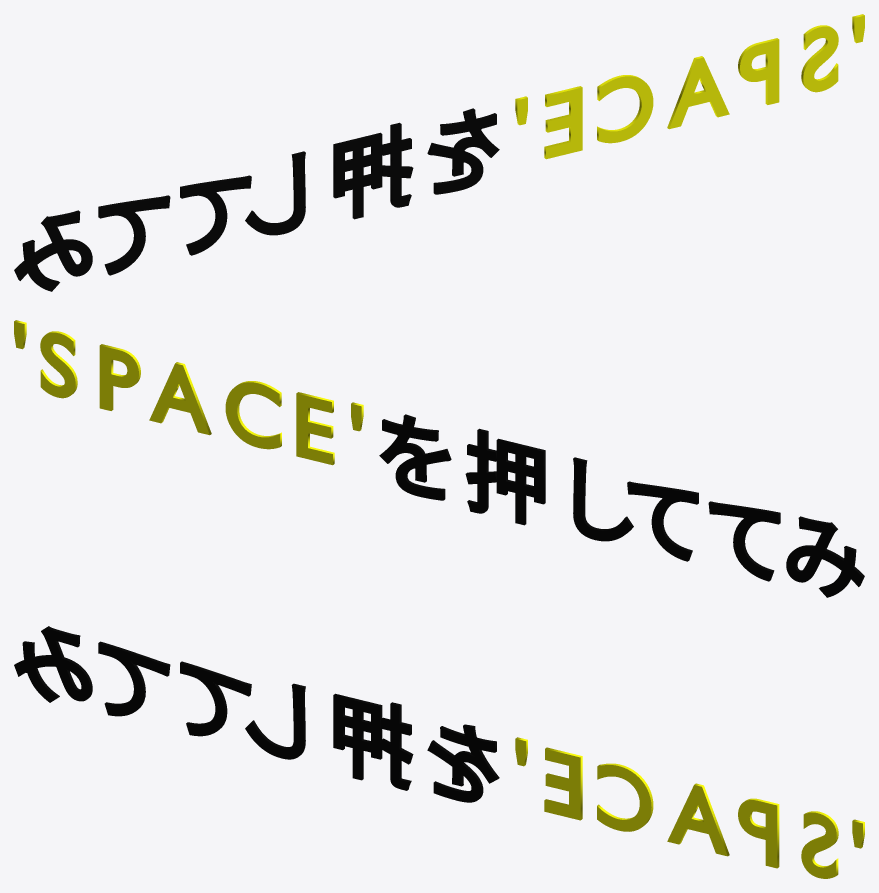
The model's file is stage3text2.obj.
3 renders of one model, top to bottom at view 1: azimuth 30°, elevation 25°; view 2: azimuth 150°, elevation 25°; view 3: azimuth 330°, elevation 25°, orthographic.
Visible parts, largest first — view 1: Text.018, Text.016, Text.020, Text.013, Text.011, Text.021, Text.022, Text.012, Text.010, Text.009, Text.019; view 2: Text.018, Text.016, Text.020, Text.013, Text.011, Text.021, Text.022, Text.012, Text.010, Text.009, Text.019; view 3: Text.018, Text.016, Text.020, Text.013, Text.021, Text.011, Text.022, Text.012, Text.010, Text.019, Text.009.
Boxes of the visible parts, box(x1,y1,x2,y2) form: Text.018: box(333, 122, 413, 219); Text.016: box(427, 108, 499, 194); Text.020: box(14, 210, 92, 291); Text.013: box(544, 86, 582, 159); Text.011: box(667, 56, 729, 129); Text.021: box(98, 195, 170, 275); Text.022: box(180, 175, 251, 255); Text.012: box(597, 75, 653, 143); Text.010: box(738, 38, 779, 104); Text.009: box(801, 25, 838, 92); Text.019: box(245, 151, 305, 235); Text.018: box(465, 428, 545, 525); Text.016: box(379, 414, 451, 500); Text.020: box(786, 516, 864, 597); Text.013: box(296, 392, 334, 465); Text.011: box(149, 362, 211, 435); Text.021: box(708, 501, 780, 581); Text.022: box(627, 481, 698, 561); Text.012: box(225, 381, 281, 449); Text.010: box(99, 344, 140, 410); Text.009: box(40, 331, 77, 398); Text.019: box(573, 457, 633, 541); Text.018: box(333, 693, 413, 790); Text.016: box(427, 724, 499, 802); Text.020: box(14, 626, 92, 702); Text.013: box(544, 747, 582, 820); Text.021: box(98, 641, 170, 716); Text.011: box(667, 783, 729, 856); Text.022: box(180, 661, 251, 736); Text.012: box(597, 763, 653, 831); Text.010: box(738, 798, 779, 868); Text.019: box(245, 683, 305, 759); Text.009: box(801, 811, 838, 878).
Bounding box in the file's own units: 10.18 × 0.959 × 0.04.
